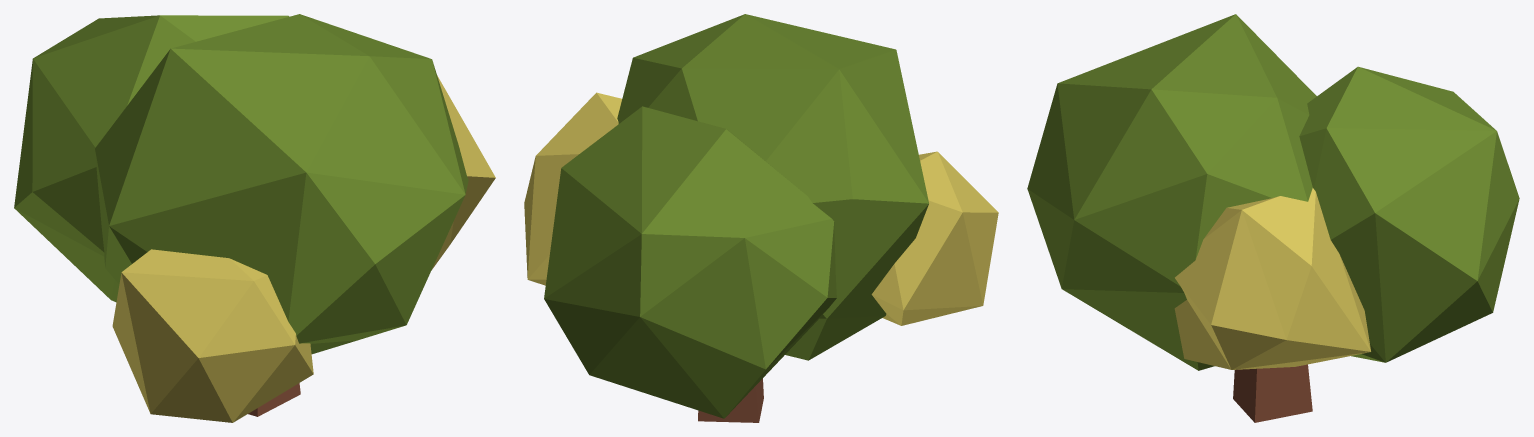
File: Bush_6_autumn_mat.fbx
3 renders of one model, left to right at view 1: azimuth 30°, elevation 25°; view 2: azimuth 150°, elevation 25°; view 3: azimuth 270°, elevation 25°, orthographic. The views are drawn at different scales.
Visible parts, largest first — view 1: Bush_6_autumn_mat; view 2: Bush_6_autumn_mat; view 3: Bush_6_autumn_mat.
Part boxes in pixels (left/top/right/bottom): Bush_6_autumn_mat: left=14, top=14, right=495, bottom=422; Bush_6_autumn_mat: left=524, top=14, right=998, bottom=422; Bush_6_autumn_mat: left=1027, top=14, right=1519, bottom=422.
Size of the model in its own units: 30.85 by 27.54 by 35.35.
